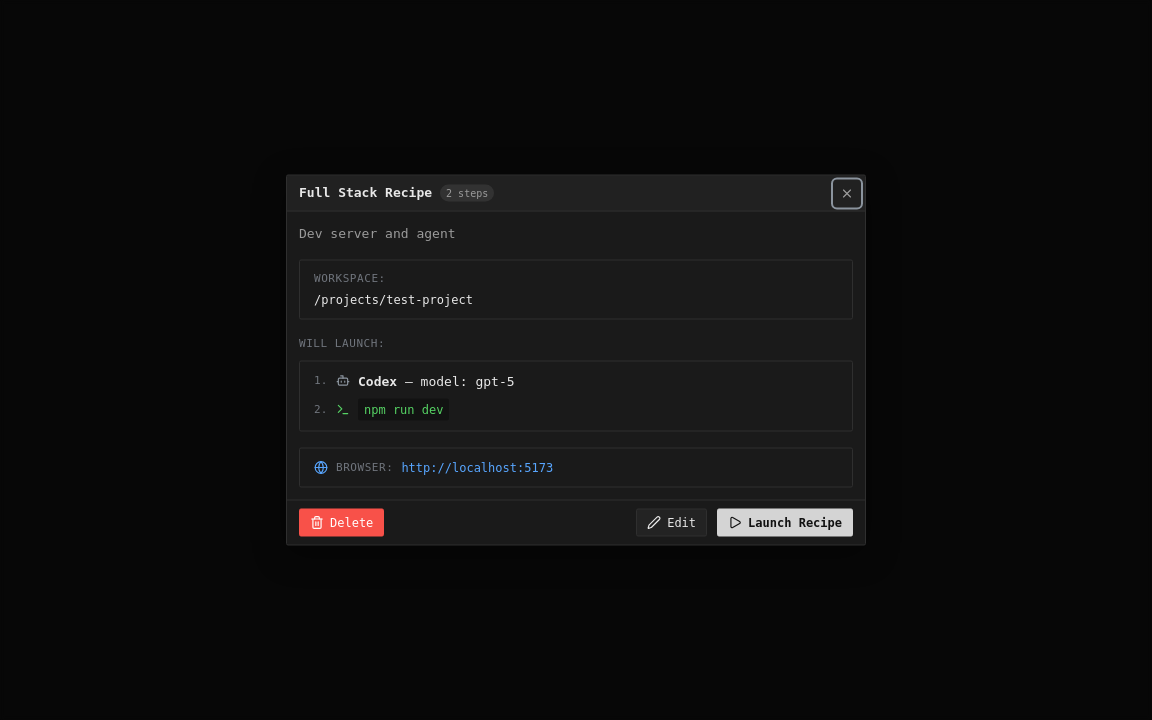
RecipeModal › displays partial launch failure banner when steps fail
Click the button "Launch Recipe".
click(785, 522)  # box top-left (717, 508), bottom-right (853, 536)
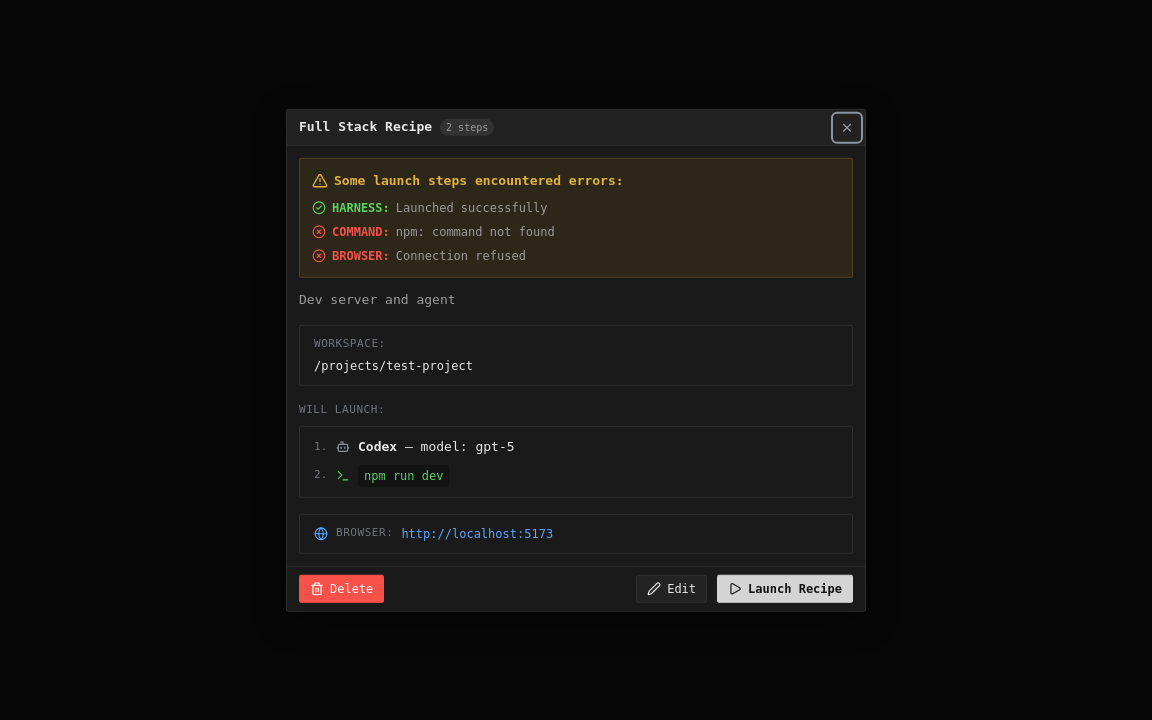
Result: the text "Some launch steps encountered errors:" is shown at top-left (334, 171), bottom-right (624, 190)
Result: the text "npm: command not found" is shown at top-left (396, 222), bottom-right (555, 240)
Result: the text "Connection refused" is shown at top-left (396, 246), bottom-right (526, 264)
